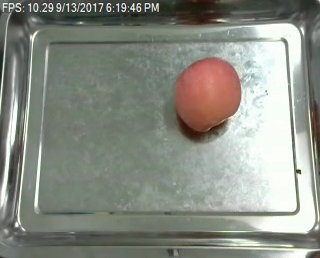Apple: (172, 56, 242, 134)
